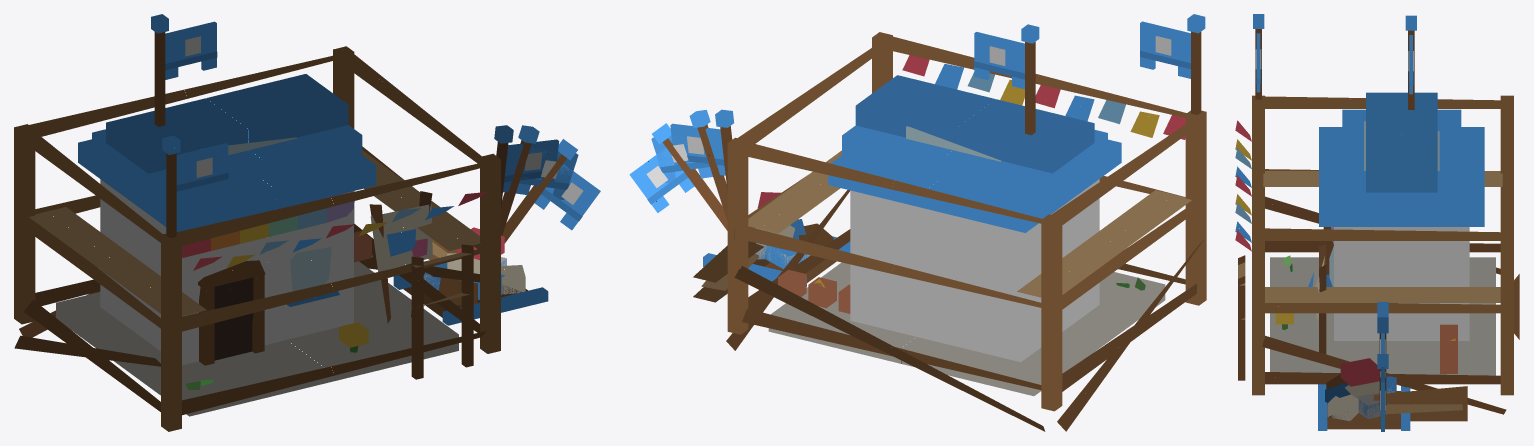
File: butterfly-research_lod1.glb
3 renders of one model, left to right at view 1: azimuth 30°, elevation 25°; view 2: azimuth 150°, elevation 25°; view 3: azimuth 270°, elevation 25°, orthographic. The views are drawn at different scales.
Parts seen in each view (by area): view 1: scaffold-mesh, built-mesh, dismantle-75-mesh, scaffold-banner, banner, dismantle-25-mesh, dismantle-25-banner, dismantle-50-mesh, dismantle-75-banner, flag-pole, dismantle-25-flag-pole, scaffold-flag-pole (+3 smaller); view 2: scaffold-mesh, built-mesh, dismantle-75-mesh, banner, scaffold-banner, dismantle-25-banner, dismantle-75-banner, flag-pole, dismantle-25-flag-pole, scaffold-flag-pole, dismantle-50-mesh, dismantle-50-banner (+3 smaller); view 3: scaffold-mesh, built-mesh, dismantle-75-mesh, dismantle-50-mesh, dismantle-25-mesh, flag-pole, scaffold-flag-pole, scaffold-banner, dismantle-25-flag-pole, banner.
Boxes of the visible parts, box(x1,y1,x2,y2) form: scaffold-mesh: box(14, 46, 500, 431); built-mesh: box(78, 74, 458, 416); dismantle-75-mesh: box(56, 193, 527, 398); scaffold-banner: box(176, 143, 228, 201); banner: box(165, 21, 217, 79); dismantle-25-mesh: box(242, 227, 548, 345); dismantle-25-banner: box(534, 164, 600, 230); dismantle-50-mesh: box(350, 231, 525, 351); dismantle-75-banner: box(503, 139, 559, 192); flag-pole: box(151, 14, 168, 126); dismantle-25-flag-pole: box(502, 139, 577, 243); scaffold-flag-pole: box(162, 135, 180, 237); scaffold-mesh: box(693, 32, 1206, 431); built-mesh: box(768, 75, 1128, 396); dismantle-75-mesh: box(755, 203, 1164, 380); banner: box(974, 32, 1024, 89); scaffold-banner: box(1140, 21, 1190, 78); dismantle-25-banner: box(629, 148, 694, 212); dismantle-75-banner: box(670, 123, 725, 175); flag-pole: box(1021, 24, 1039, 135); dismantle-25-flag-pole: box(652, 123, 727, 230); scaffold-flag-pole: box(1187, 14, 1205, 114); dismantle-50-mesh: box(756, 223, 1145, 307); dismantle-50-banner: box(651, 135, 712, 183); scaffold-mesh: box(1235, 95, 1519, 421); built-mesh: box(1282, 92, 1484, 354); dismantle-75-mesh: box(1270, 227, 1495, 429); dismantle-50-mesh: box(1282, 259, 1469, 420); dismantle-25-mesh: box(1318, 358, 1442, 430); flag-pole: box(1405, 15, 1416, 109); scaffold-flag-pole: box(1253, 14, 1264, 99); scaffold-banner: box(1255, 33, 1261, 92); dismantle-25-flag-pole: box(1377, 354, 1388, 405); banner: box(1408, 35, 1413, 94).
Bounding box in the file's own units: 2.67 × 1.73 × 1.51.
